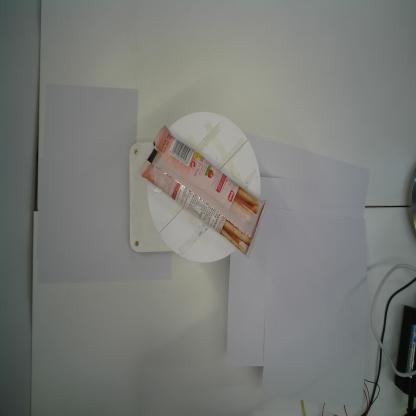Dessert: (134, 124, 270, 260)
